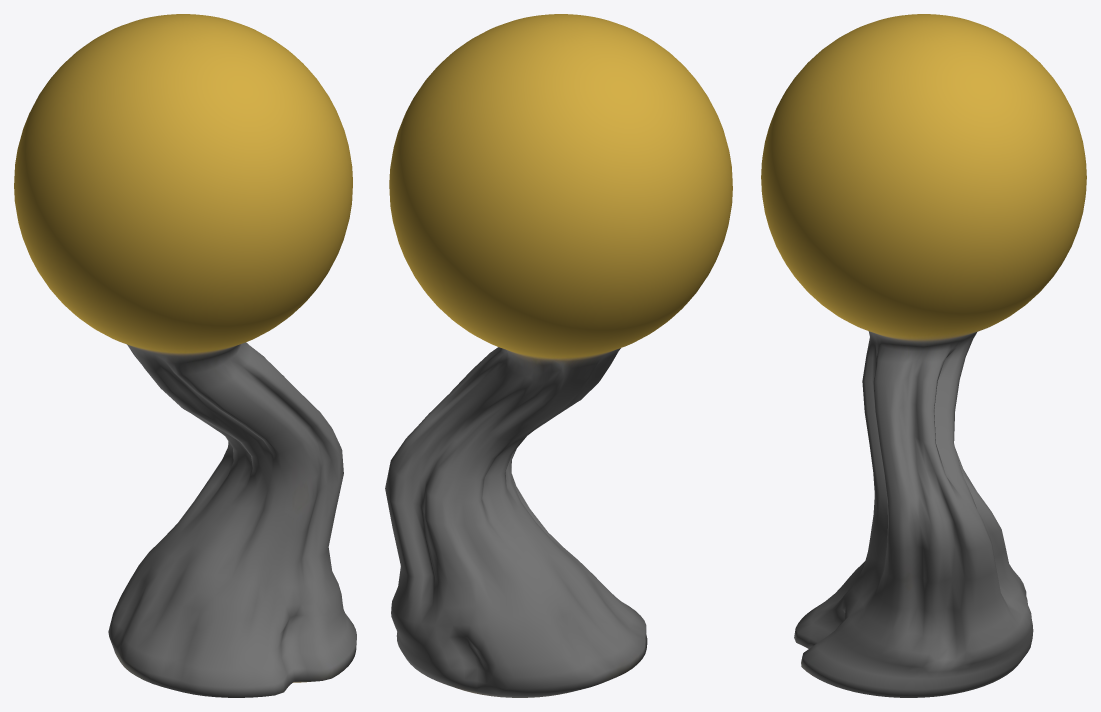
Rendered from MZ4250 - Will-o-Wisp Yellow.glb.
The picture shows the model from 3 angles, left to right: view 1: azimuth 30°, elevation 25°; view 2: azimuth 150°, elevation 25°; view 3: azimuth 270°, elevation 25°; orthographic projection. The views are drawn at different scales.
Visible parts, largest first — view 1: default; view 2: default; view 3: default.
Part boxes in pixels (<box>): default: <box>14,14,356,697</box>; default: <box>385,14,732,697</box>; default: <box>761,14,1086,697</box>.
Bounding box in the file's own units: 0.3516 × 0.7197 × 0.342.
Materials: 1 (1 with a texture image).
